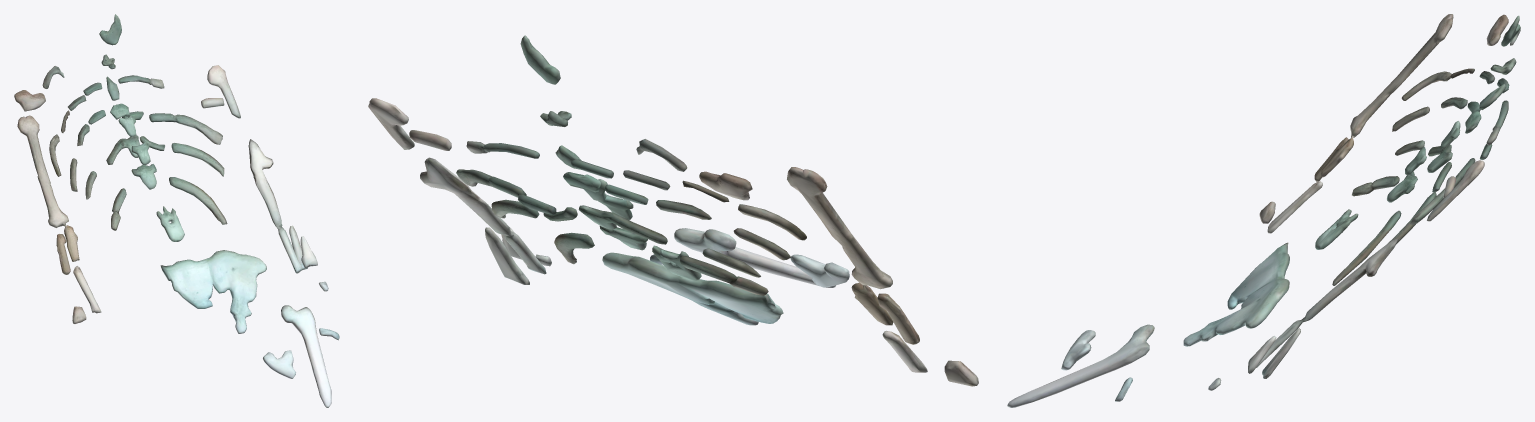
3 renders of one model, left to right at view 1: azimuth 30°, elevation 25°; view 2: azimuth 150°, elevation 25°; view 3: azimuth 270°, elevation 25°, orthographic. The views are drawn at different scales.
Visible parts, largest first — view 1: node_0; view 2: node_0; view 3: node_0.
Boxes of the visible parts, box(x1,y1,x2,y2) form: node_0: box(14, 14, 339, 407); node_0: box(368, 35, 978, 386); node_0: box(1007, 14, 1520, 407).
Size of the model in its own units: 0.6899 by 0.7328 by 0.9189.
1 material, 1 textured.
